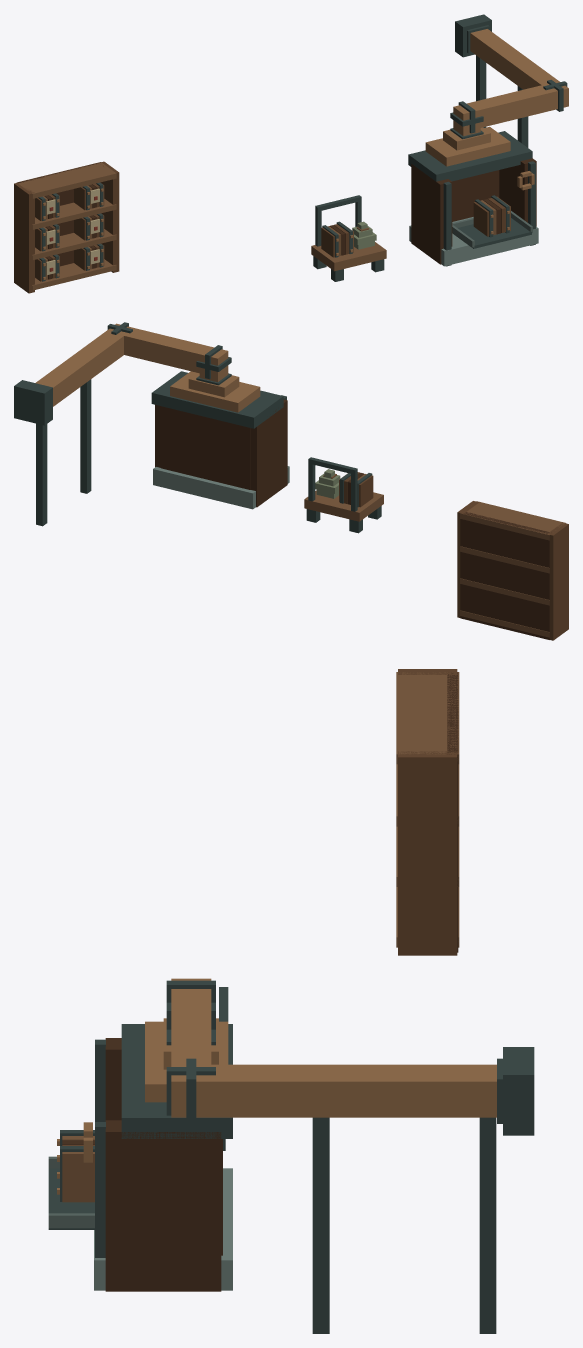
The model's file is B36_consign.glb.
3 views of the same model, one above another, from view 1: azimuth 30°, elevation 25°; view 2: azimuth 150°, elevation 25°; view 3: azimuth 270°, elevation 25° (orthographic). The views are drawn at different scales.
Visible parts, largest first — view 1: B36_consign__main_station_Pipe_copper, B36_consign__package_stock_ShelfBoard_woodlight, B36_consign__main_station_ReceiverSide_wooddark, B36_consign__package_stock_ShelfUpright_wood, B36_consign__main_station_ReceiverRoof_iron, B36_consign__main_station_ReceiverBack_wooddark, B36_consign__main_station_ReceiverTaper_copper, B36_consign__main_station_ReceiverFoot_stone, B36_consign__package_stock_CratePlanks_wood, B36_consign__package_stock_CrateStrap_iron, B36_consign__incoming_parcels_CartBed_woodlight, B36_consign__main_station_ReceiverEdge_iron (+15 smaller); view 2: B36_consign__package_stock_ShelfBack_wooddark, B36_consign__main_station_ReceiverBack_wooddark, B36_consign__main_station_Pipe_copper, B36_consign__package_stock_ShelfBoard_woodlight, B36_consign__main_station_ReceiverSide_wooddark, B36_consign__package_stock_ShelfUpright_wood, B36_consign__main_station_PipeLeg_iron, B36_consign__main_station_ReceiverRoof_iron, B36_consign__main_station_ReceiverFoot_stone, B36_consign__main_station_ReceiverTaper_copper, B36_consign__main_station_WallPipeSocket_iron, B36_consign__incoming_parcels_CartBed_woodlight (+6 smaller); view 3: B36_consign__main_station_ReceiverSide_wooddark, B36_consign__main_station_Pipe_copper, B36_consign__package_stock_ShelfUpright_wood, B36_consign__main_station_PipeLeg_iron, B36_consign__package_stock_ShelfBoard_woodlight, B36_consign__main_station_ReceiverRoof_iron, B36_consign__main_station_WallPipeSocket_iron, B36_consign__main_station_PipeFlange_iron, B36_consign__main_station_ReceiverEdge_iron, B36_consign__main_station_ReceiverTaper_copper, B36_consign__main_station_ReceiverFoot_stone, B36_consign__main_station_CratePlanks_woodlight (+3 smaller).
Boxes of the visible parts, <box> form: B36_consign__main_station_Pipe_copper: <box>453,29,568,136</box>; B36_consign__package_stock_ShelfBoard_woodlight: <box>18,162,116,290</box>; B36_consign__main_station_ReceiverSide_wooddark: <box>411,158,536,264</box>; B36_consign__package_stock_ShelfUpright_wood: <box>14,161,119,293</box>; B36_consign__main_station_ReceiverRoof_iron: <box>408,131,532,181</box>; B36_consign__main_station_ReceiverBack_wooddark: <box>452,170,499,221</box>; B36_consign__main_station_ReceiverTaper_copper: <box>425,126,510,166</box>; B36_consign__main_station_ReceiverFoot_stone: <box>409,217,538,266</box>; B36_consign__package_stock_CratePlanks_wood: <box>35,183,99,281</box>; B36_consign__package_stock_CrateStrap_iron: <box>38,182,103,281</box>; B36_consign__incoming_parcels_CartBed_woodlight: <box>311,242,386,271</box>; B36_consign__main_station_ReceiverEdge_iron: <box>443,161,535,266</box>; B36_consign__package_stock_ShelfBack_wooddark: <box>460,512,551,639</box>; B36_consign__main_station_ReceiverBack_wooddark: <box>161,406,250,489</box>; B36_consign__main_station_Pipe_copper: <box>35,323,228,406</box>; B36_consign__package_stock_ShelfBoard_woodlight: <box>460,501,565,637</box>; B36_consign__main_station_ReceiverSide_wooddark: <box>155,399,287,507</box>; B36_consign__package_stock_ShelfUpright_wood: <box>457,501,568,640</box>; B36_consign__main_station_PipeLeg_iron: <box>36,379,91,526</box>; B36_consign__main_station_ReceiverRoof_iron: <box>151,371,283,428</box>; B36_consign__main_station_ReceiverFoot_stone: <box>153,466,289,509</box>; B36_consign__main_station_ReceiverTaper_copper: <box>170,371,260,412</box>; B36_consign__main_station_WallPipeSocket_iron: <box>14,380,52,425</box>; B36_consign__incoming_parcels_CartBed_woodlight: <box>304,490,383,521</box>; B36_consign__main_station_ReceiverSide_wooddark: <box>105,1038,221,1291</box>; B36_consign__main_station_Pipe_copper: <box>171,978,496,1117</box>; B36_consign__package_stock_ShelfUpright_wood: <box>398,669,457,955</box>; B36_consign__main_station_PipeLeg_iron: <box>312,1117,496,1333</box>; B36_consign__package_stock_ShelfBoard_woodlight: <box>396,672,459,947</box>; B36_consign__main_station_ReceiverRoof_iron: <box>121,1024,232,1138</box>; B36_consign__main_station_WallPipeSocket_iron: <box>503,1047,534,1135</box>; B36_consign__main_station_PipeFlange_iron: <box>166,980,502,1123</box>; B36_consign__main_station_ReceiverEdge_iron: <box>95,1039,105,1257</box>; B36_consign__main_station_ReceiverTaper_copper: <box>145,1021,228,1102</box>; B36_consign__main_station_ReceiverFoot_stone: <box>94,1168,232,1290</box>; B36_consign__main_station_CratePlanks_woodlight: <box>62,1136,94,1202</box>.
Bounding box in the file's own units: 12.19 × 3.23 × 5.24.
